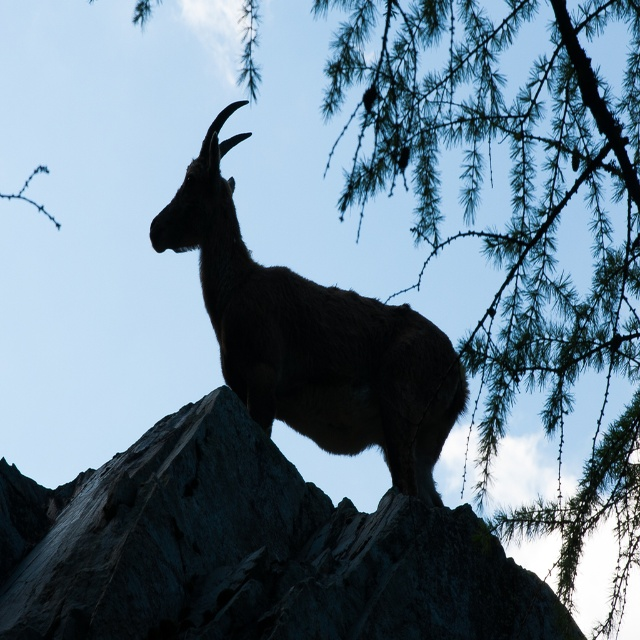Goat: (149, 100, 471, 506)
